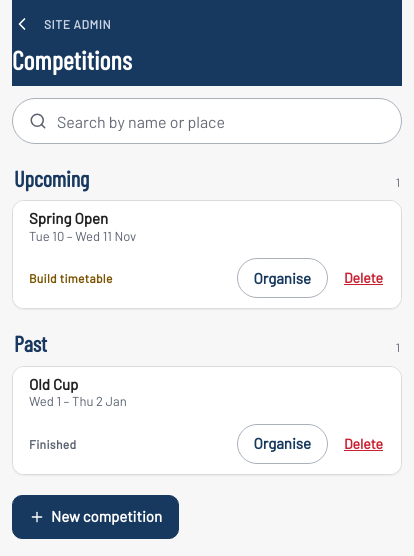
it: AdminCompetitionsPage › searches by name or place, and says when nothing matches
The width and height of the screenshot is (414, 556).
Type "badmin" into the search field named "Search competitions" at (221, 121), box [57, 99, 385, 143]
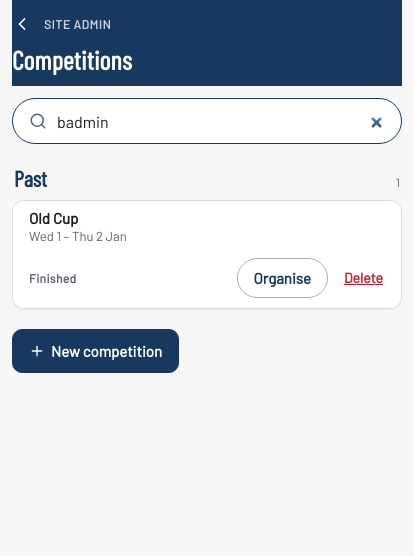
Check: the link with aria-label "Organise Old Cup" is shown, box [236, 258, 328, 298]
Check: the text "Upcoming" is gone
Replace the text in the search field named "Search competitions" with "spring" at (221, 121), box [57, 99, 385, 143]
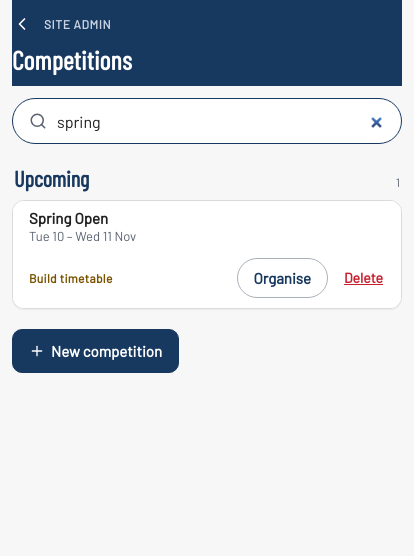
Check: the link with aria-label "Organise Spring Open" is shown, box [236, 258, 328, 298]
Replace the text in the search field named "Search competitions" with "zzz" at (221, 121), box [57, 99, 385, 143]
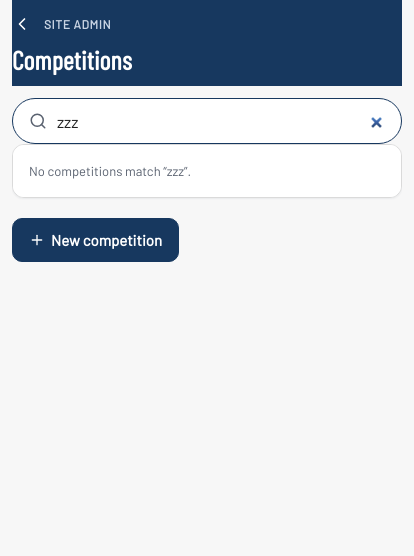
Check: the text "No competitions match “zzz”." is shown, box [29, 163, 191, 180]
